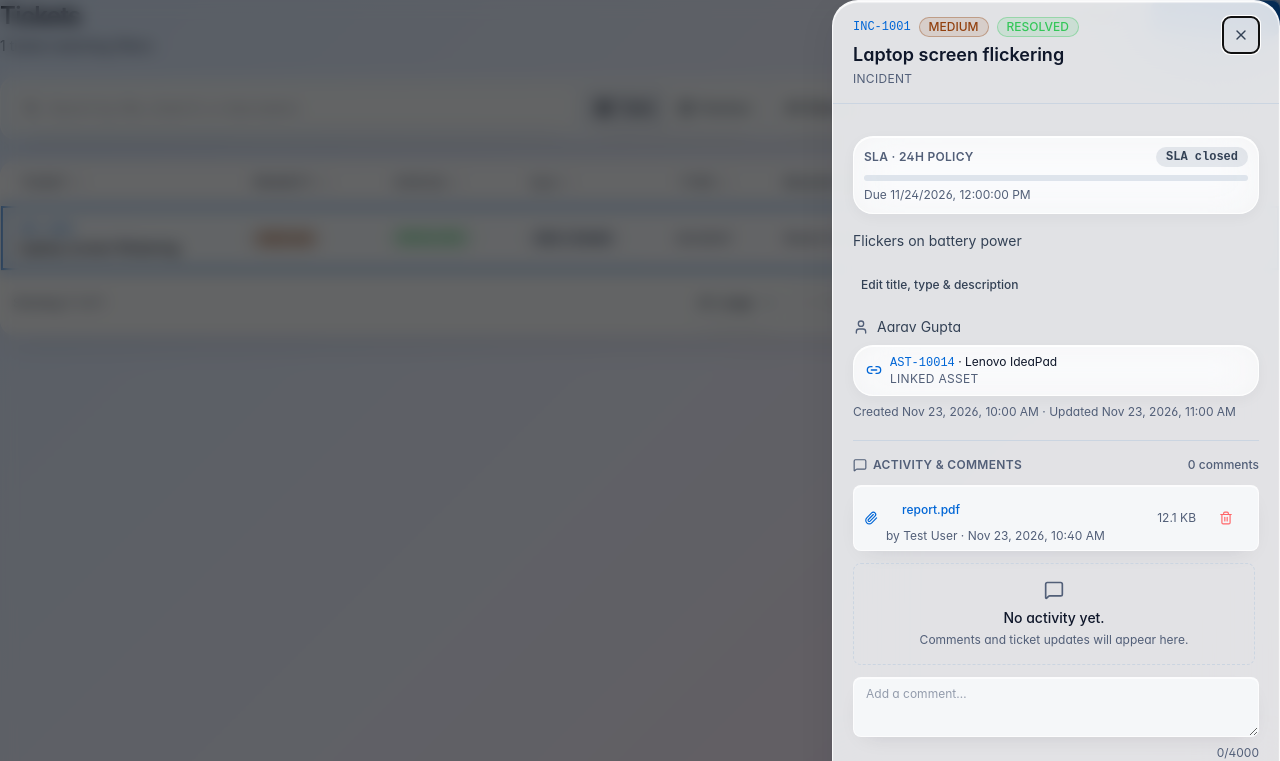
Test: Tickets backfill B — issue 122 (TFE-18/19/22/23/24/25/27/28/30) › TFE-23: attachment delete failure shows FieldError and resets confirm state
This screenshot has width=1280, height=761.
Click the button named "Delete attachment".
click(1226, 518)  # box [1204,496,1248,540]
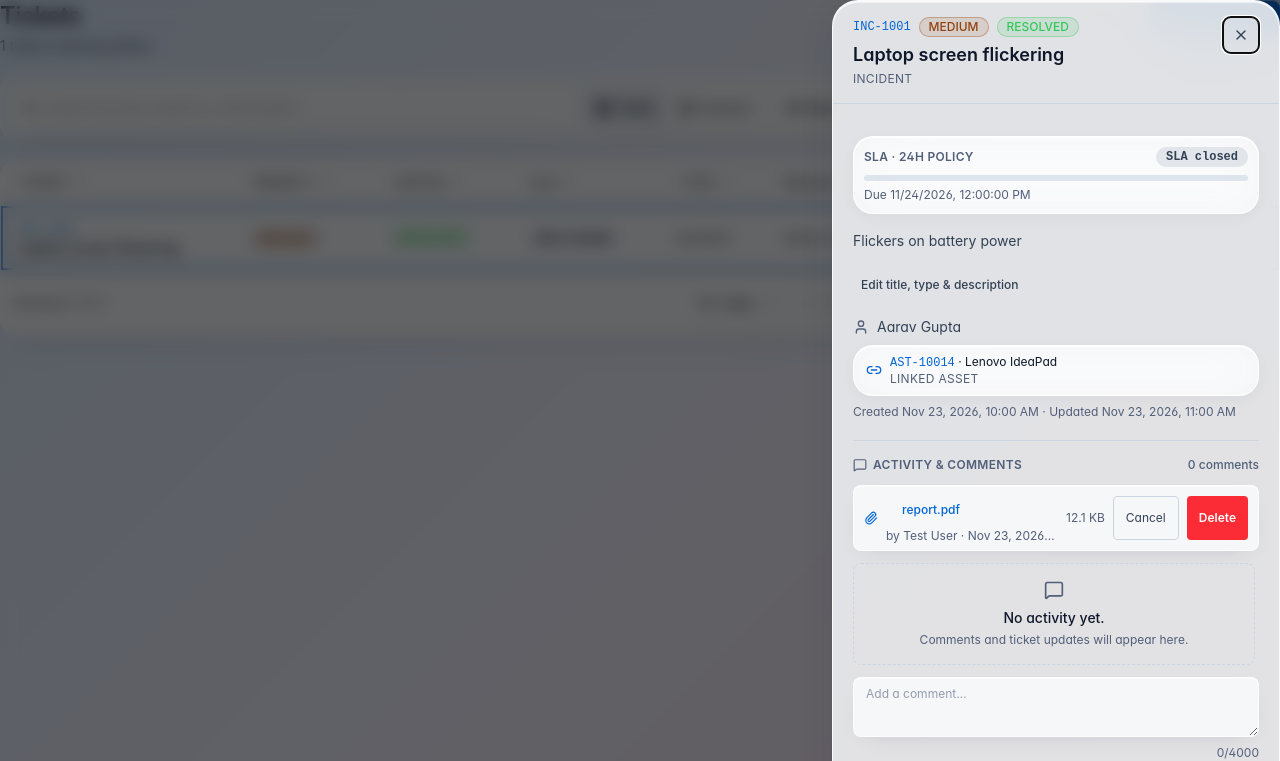
Click the button "Delete".
click(1217, 518)  # box [1187,496,1248,540]
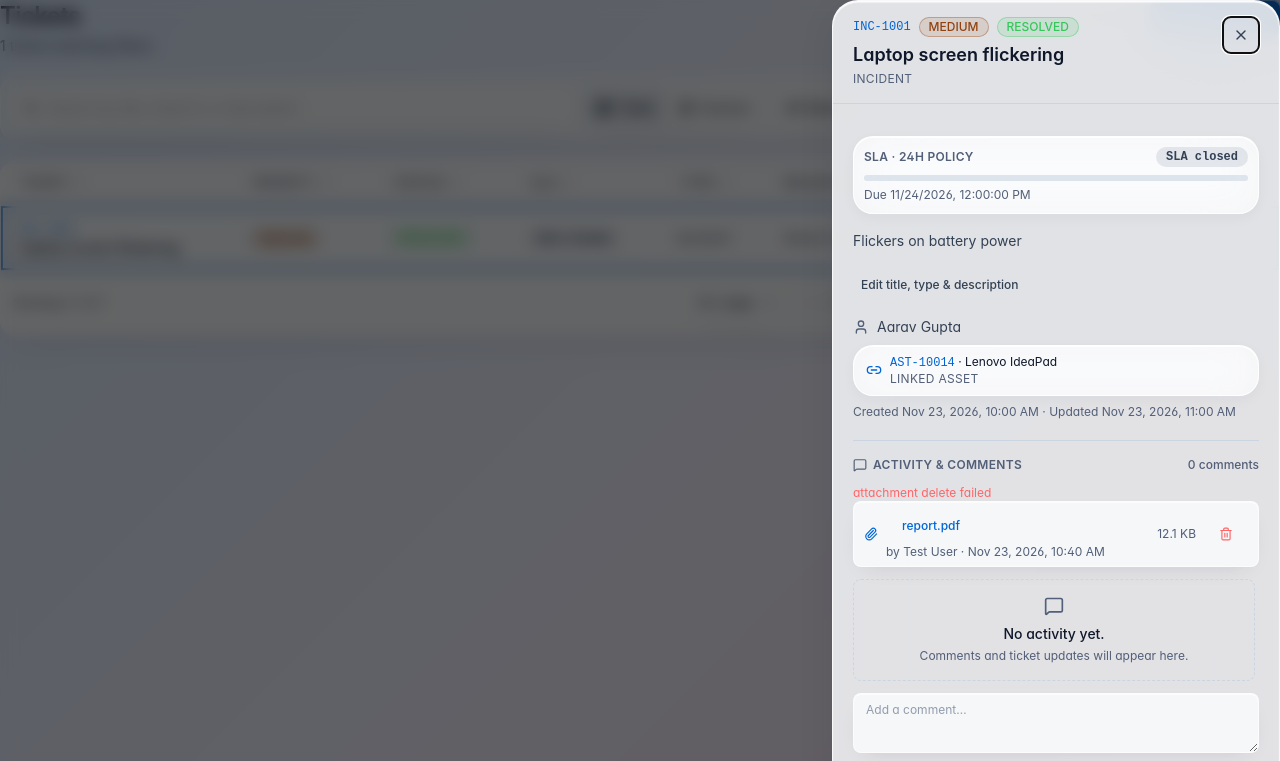
Check: the text "attachment delete failed" is shown, box [853,485,991,500]
Check: the button named "Delete attachment" is shown, box [1204,512,1248,556]
